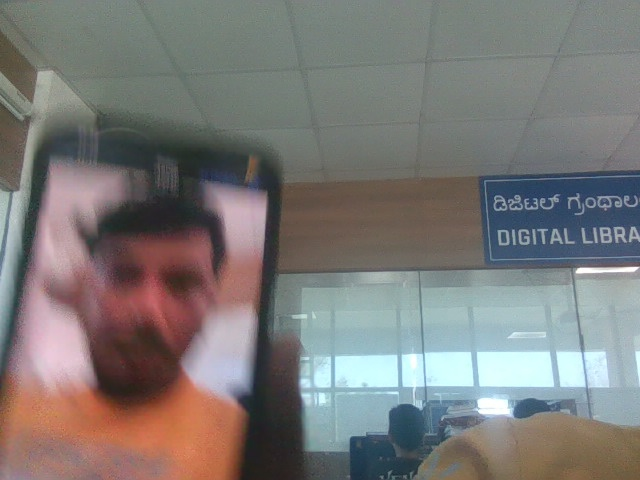fake: (39, 111, 253, 415)
